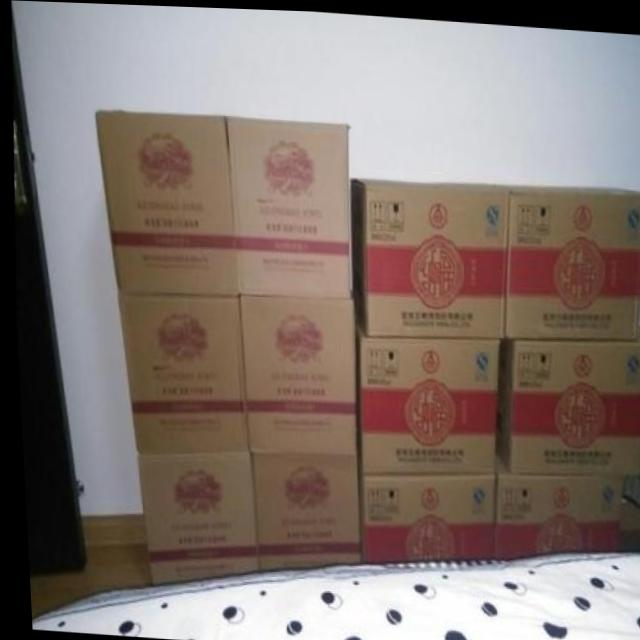box: (94, 109, 233, 294), (349, 174, 506, 336), (352, 311, 496, 473), (226, 115, 349, 295), (501, 179, 640, 334), (115, 295, 244, 455), (493, 334, 640, 470), (237, 293, 353, 452), (131, 451, 252, 586), (489, 451, 618, 555), (245, 452, 355, 569), (354, 473, 490, 560)
